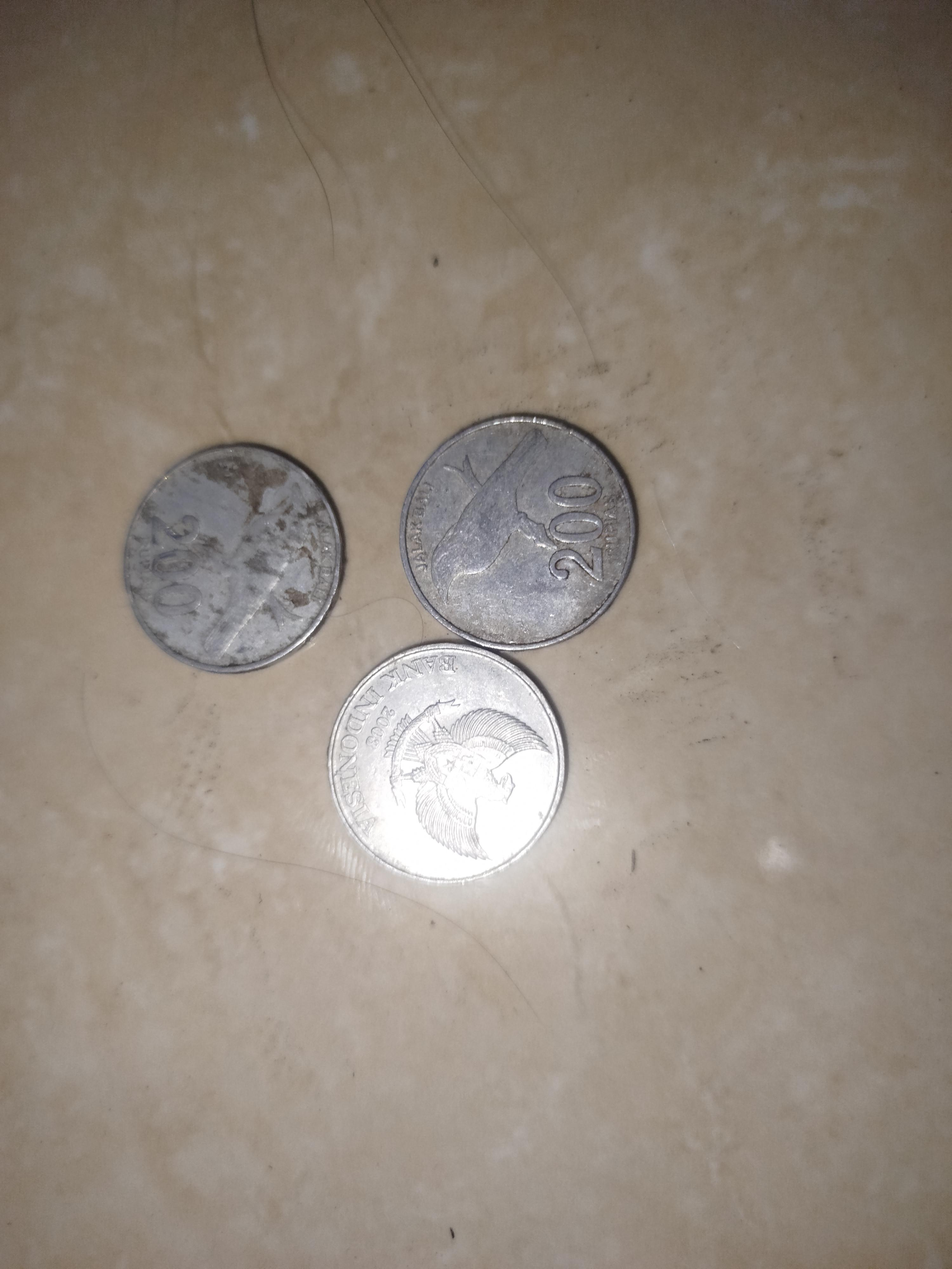coin_200_e2003: (332, 639, 569, 894), (398, 414, 642, 657)
